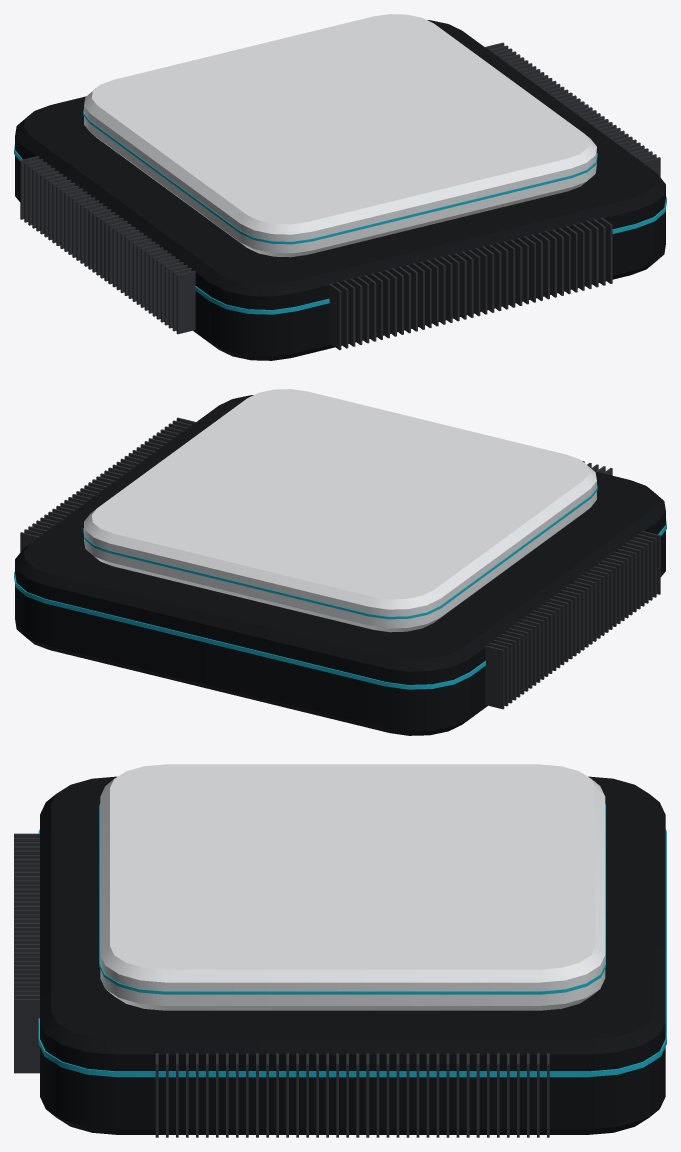
File: c3_transceiver.obj
3 views of the same model, one above another, from view 1: azimuth 30°, elevation 25°; view 2: azimuth 150°, elevation 25°; view 3: azimuth 270°, elevation 25° (orthographic). The views are drawn at different scales.
Visible parts, largest first — view 1: c3_transceiver; view 2: c3_transceiver; view 3: c3_transceiver.
Boxes of the visible parts, <box> form: c3_transceiver: <box>14,14,666,360</box>; c3_transceiver: <box>14,389,666,735</box>; c3_transceiver: <box>14,764,666,1137</box>.
Bounding box in the file's own units: 2.15 × 0.465 × 2.02.
